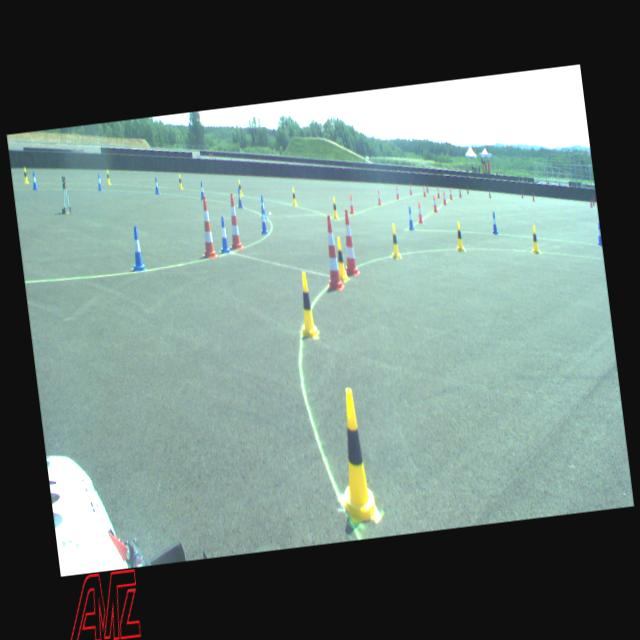blue_cone: (128, 224, 146, 270), (217, 216, 230, 253), (258, 205, 268, 234), (489, 210, 498, 234), (406, 206, 414, 230), (258, 195, 266, 218), (236, 188, 243, 208), (31, 171, 38, 190), (596, 222, 602, 244), (96, 172, 102, 190), (198, 180, 204, 198), (154, 177, 160, 194)
large_orange_cone: (318, 214, 344, 292), (338, 209, 360, 277), (196, 194, 218, 258), (224, 192, 244, 250)
orange_cone: (416, 202, 422, 223), (348, 194, 354, 213), (431, 194, 437, 212), (376, 189, 382, 205), (441, 190, 447, 204), (394, 186, 399, 199), (421, 184, 426, 197), (408, 182, 412, 195), (448, 187, 452, 200), (436, 186, 440, 198)
unknown_cone: (458, 187, 461, 198), (531, 192, 534, 202), (589, 197, 592, 207), (488, 189, 491, 198), (520, 189, 523, 198), (426, 184, 428, 194), (592, 196, 594, 206), (466, 187, 468, 194)
yellow_cone: (329, 386, 380, 522), (294, 270, 318, 338), (334, 236, 348, 281), (388, 222, 401, 258), (528, 223, 540, 254), (454, 221, 464, 252), (330, 196, 338, 219), (22, 166, 29, 184), (290, 188, 297, 205), (105, 169, 111, 185), (238, 179, 242, 196), (178, 173, 182, 189)
